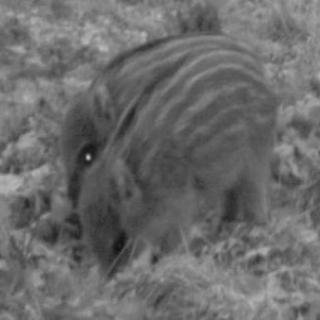Pig: (73, 63, 285, 290), (51, 21, 272, 176)
